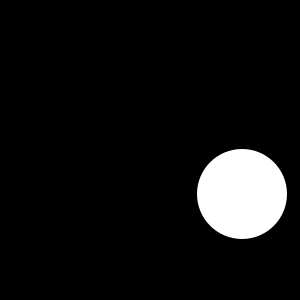rectangle: (197, 149, 287, 239)
